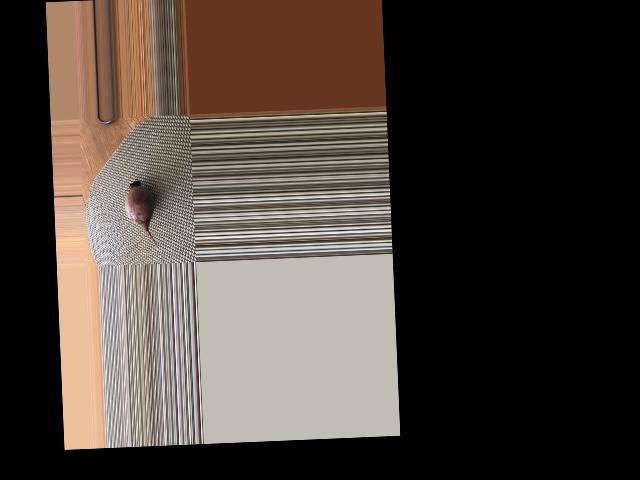beet: (124, 179, 162, 252)
